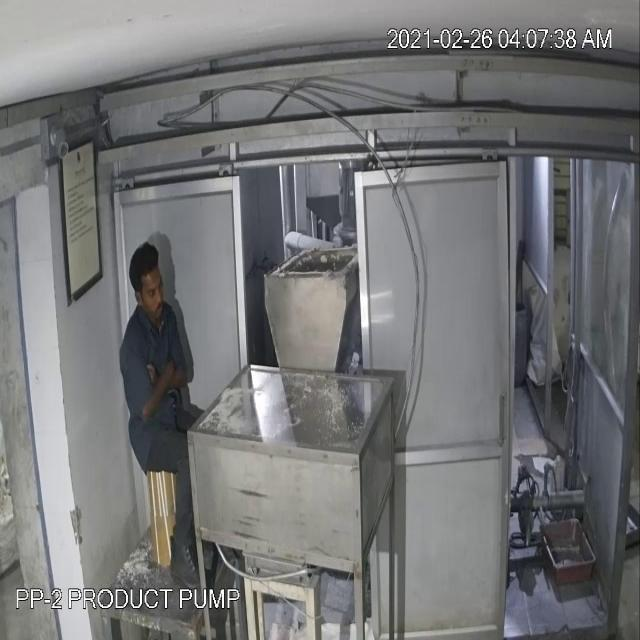no-helmet: (126, 244, 174, 294)
